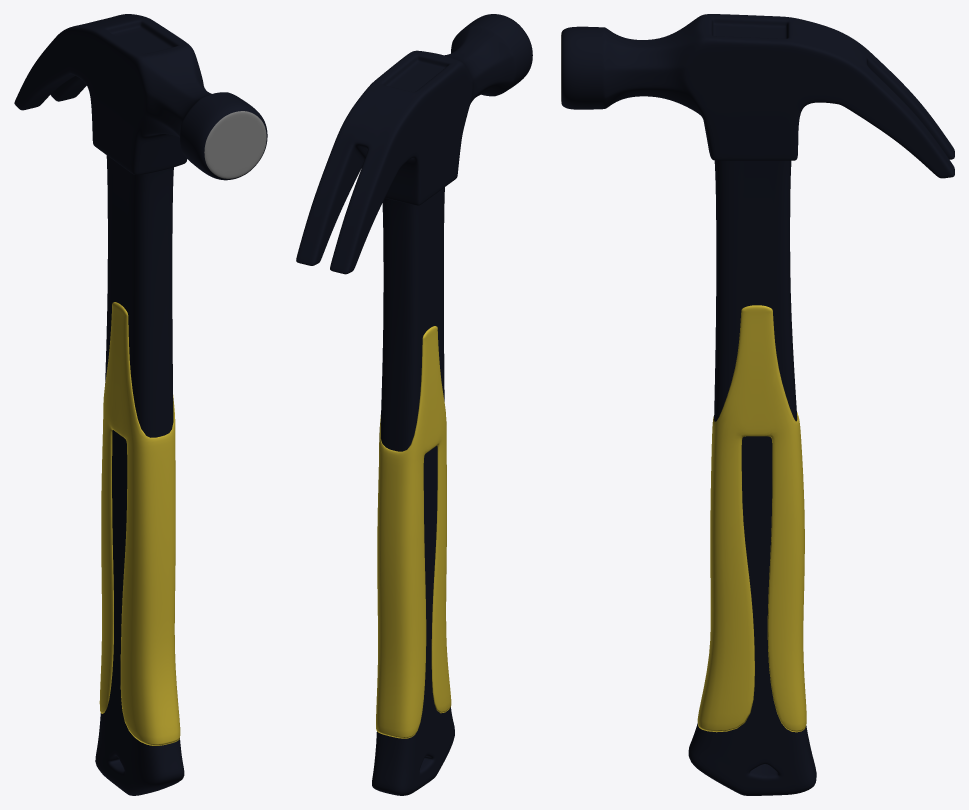
The model's file is hammer_1.glb.
3 views of the same model, side by side, from view 1: azimuth 30°, elevation 25°; view 2: azimuth 150°, elevation 25°; view 3: azimuth 270°, elevation 25° (orthographic). The views are drawn at different scales.
Visible parts, largest first — view 1: cbf638f46ecd4f439e53c92dbf2f5365; view 2: cbf638f46ecd4f439e53c92dbf2f5365; view 3: cbf638f46ecd4f439e53c92dbf2f5365.
Part boxes in pixels (x1,y1,x2,y2): cbf638f46ecd4f439e53c92dbf2f5365: [14, 14, 267, 795]; cbf638f46ecd4f439e53c92dbf2f5365: [296, 14, 532, 795]; cbf638f46ecd4f439e53c92dbf2f5365: [561, 14, 954, 795].
Size of the model in its own units: 0.0981 by 1 by 0.467.
